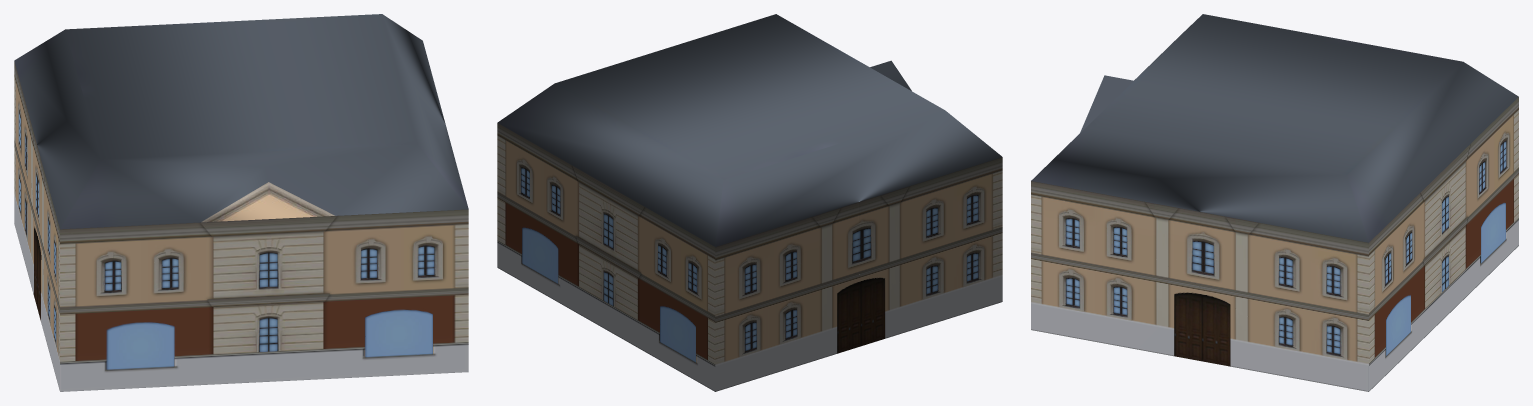
The model's file is lp-building5.fbx.
3 views of the same model, side by side, from view 1: azimuth 30°, elevation 25°; view 2: azimuth 150°, elevation 25°; view 3: azimuth 270°, elevation 25° (orthographic). The views are drawn at different scales.
Visible parts, largest first — view 1: 01houses.006; view 2: 01houses.006; view 3: 01houses.006.
Part boxes in pixels (box(x1,y1,x2,y2)): 01houses.006: box(14, 14, 468, 391); 01houses.006: box(497, 14, 1002, 391); 01houses.006: box(1031, 14, 1518, 391).
Size of the model in its own units: 825 by 357 by 817.
1 material, 1 textured.
